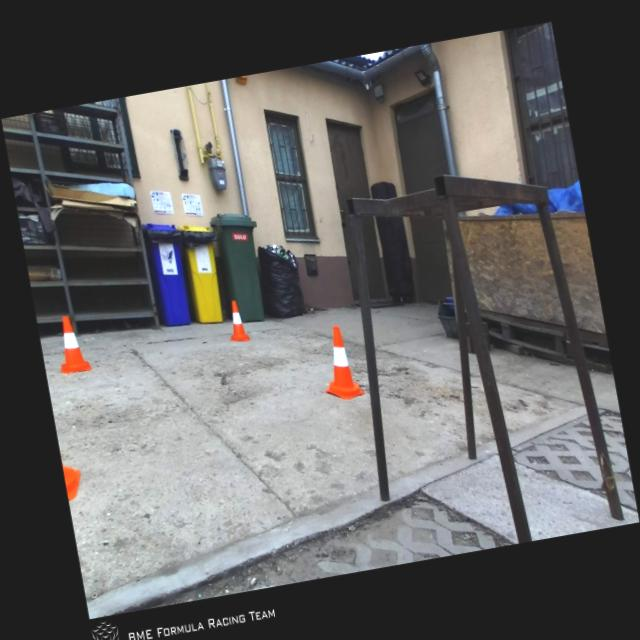orange_cone: (314, 321, 365, 402), (52, 312, 92, 375), (223, 297, 250, 343)
